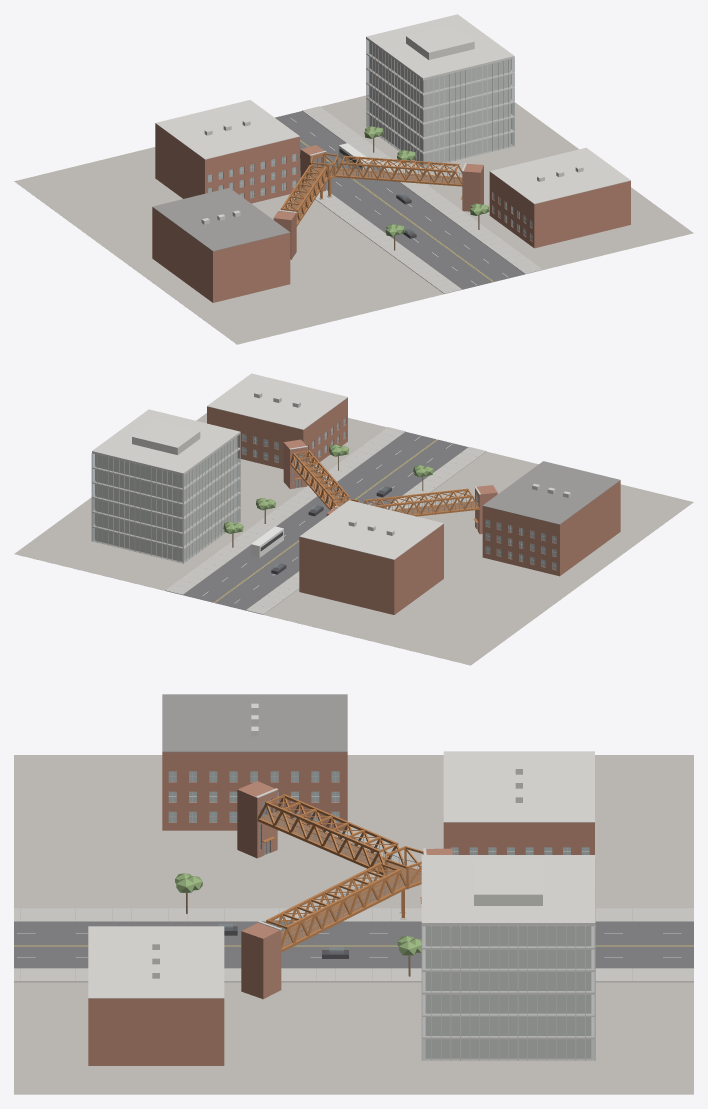
The model's file is clay-weathering-steel-footbridge-clay-v001.glb.
3 views of the same model, one above another, from view 1: azimuth 30°, elevation 25°; view 2: azimuth 150°, elevation 25°; view 3: azimuth 270°, elevation 25° (orthographic). The views are drawn at different scales.
Visible parts, largest first — view 1: CLAY_SAND, CLAY_BRICK, CLAY_GLASS, CLAY_PALE, CLAY_TRIM, CLAY_INTERIOR, CLAY_ASPHALT, CLAY_CONCRETE, CLAY_ROOF, CLAY_RUST, CLAY_DECK, CLAY_PLANTING (+1 smaller); view 2: CLAY_SAND, CLAY_BRICK, CLAY_GLASS, CLAY_TRIM, CLAY_PALE, CLAY_INTERIOR, CLAY_ASPHALT, CLAY_CONCRETE, CLAY_ROOF, CLAY_RUST, CLAY_PLANTING, CLAY_DECK (+1 smaller); view 3: CLAY_SAND, CLAY_BRICK, CLAY_PALE, CLAY_GLASS, CLAY_INTERIOR, CLAY_TRIM, CLAY_ASPHALT, CLAY_CONCRETE, CLAY_ROOF, CLAY_RUST, CLAY_DECK, CLAY_PLANTING (+1 smaller).
Boxes of the visible parts, <box> form: CLAY_SAND: <box>14,95,693,344</box>; CLAY_BRICK: <box>152,123,630,302</box>; CLAY_GLASS: <box>208,39,532,240</box>; CLAY_PALE: <box>155,25,630,224</box>; CLAY_TRIM: <box>208,14,532,240</box>; CLAY_INTERIOR: <box>369,42,510,166</box>; CLAY_ASPHALT: <box>275,111,524,289</box>; CLAY_CONCRETE: <box>300,106,542,293</box>; CLAY_ROOF: <box>152,188,290,251</box>; CLAY_RUST: <box>280,153,462,226</box>; CLAY_DECK: <box>290,166,462,221</box>; CLAY_PLANTING: <box>364,126,489,236</box>; CLAY_SAND: <box>14,413,693,665</box>; CLAY_BRICK: <box>207,398,620,614</box>; CLAY_GLASS: <box>92,418,556,569</box>; CLAY_TRIM: <box>91,409,556,569</box>; CLAY_PALE: <box>132,373,570,559</box>; CLAY_INTERIOR: <box>95,437,236,561</box>; CLAY_ASPHALT: <box>183,432,468,610</box>; CLAY_CONCRETE: <box>165,427,486,614</box>; CLAY_ROOF: <box>482,461,620,524</box>; CLAY_RUST: <box>290,450,479,522</box>; CLAY_PLANTING: <box>223,444,433,533</box>; CLAY_DECK: <box>292,461,477,514</box>; CLAY_SAND: <box>14,755,693,1094</box>; CLAY_BRICK: <box>88,752,594,1065</box>; CLAY_PALE: <box>88,703,594,998</box>; CLAY_GLASS: <box>168,771,594,1060</box>; CLAY_INTERIOR: <box>425,926,591,1058</box>; CLAY_TRIM: <box>168,771,595,1060</box>; CLAY_ASPHALT: <box>14,922,693,968</box>; CLAY_CONCRETE: <box>14,908,693,982</box>; CLAY_ROOF: <box>162,694,347,752</box>; CLAY_RUST: <box>257,794,423,952</box>; CLAY_DECK: <box>260,812,421,947</box>; CLAY_PLANTING: <box>175,873,421,955</box>.
Size of the model in its own units: 130 by 26.6 by 110.
